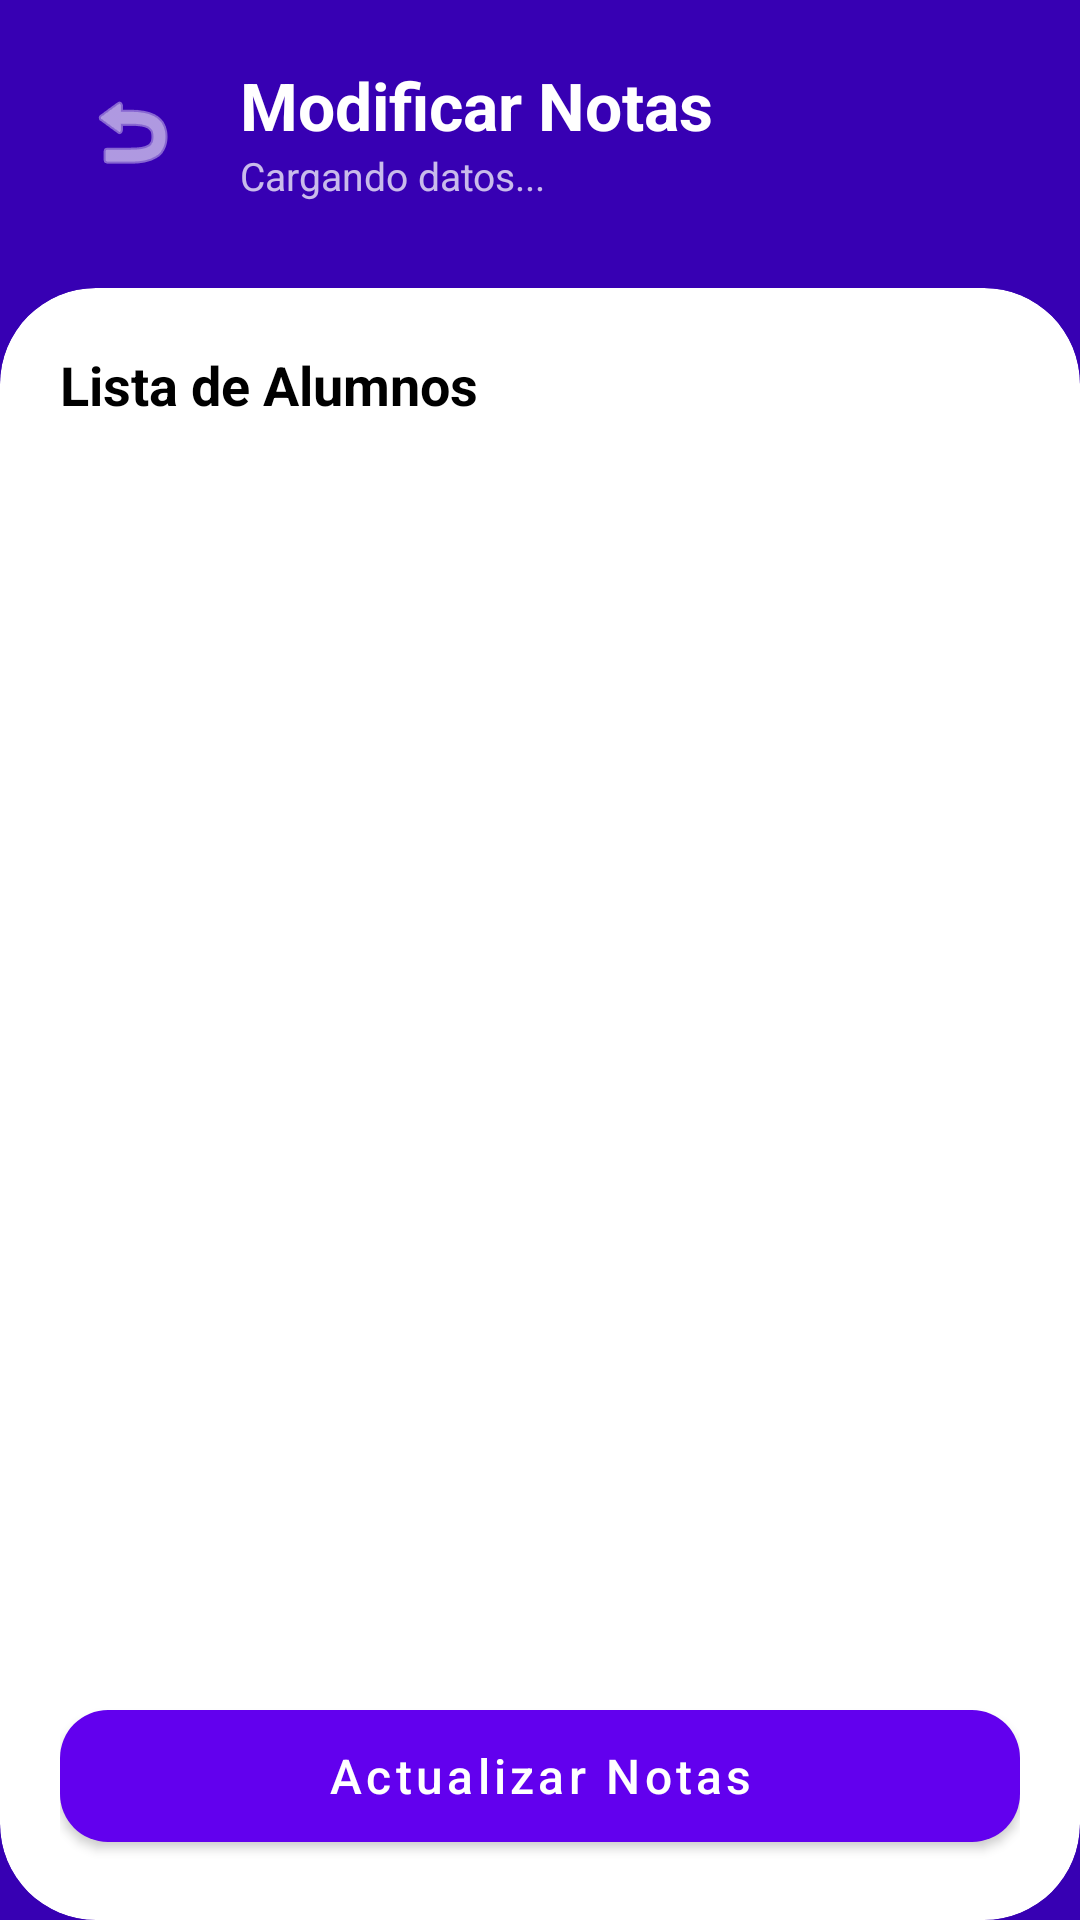

Icons on this 1080px x 1920px Android screen, each with its box as region(x1, y1, x2, y2):
Volver: region(99, 101, 168, 164)
